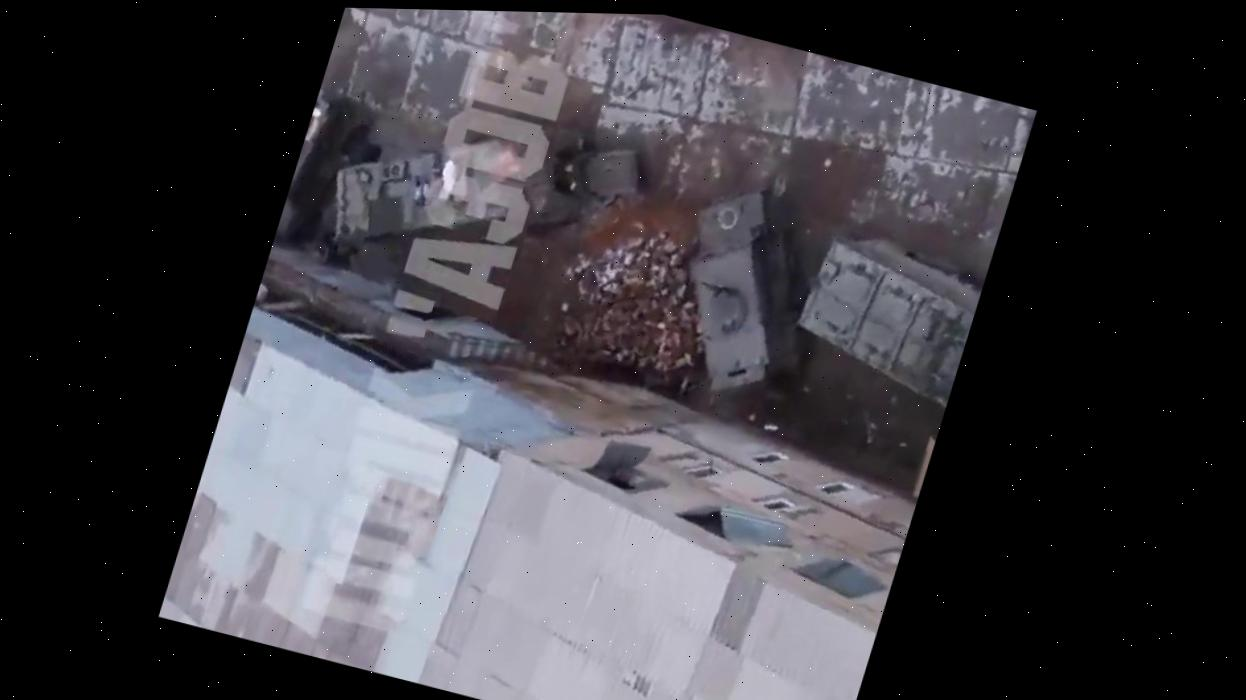armored_car: (646, 170, 850, 411)
truck: (305, 31, 678, 323), (774, 186, 1003, 434)
